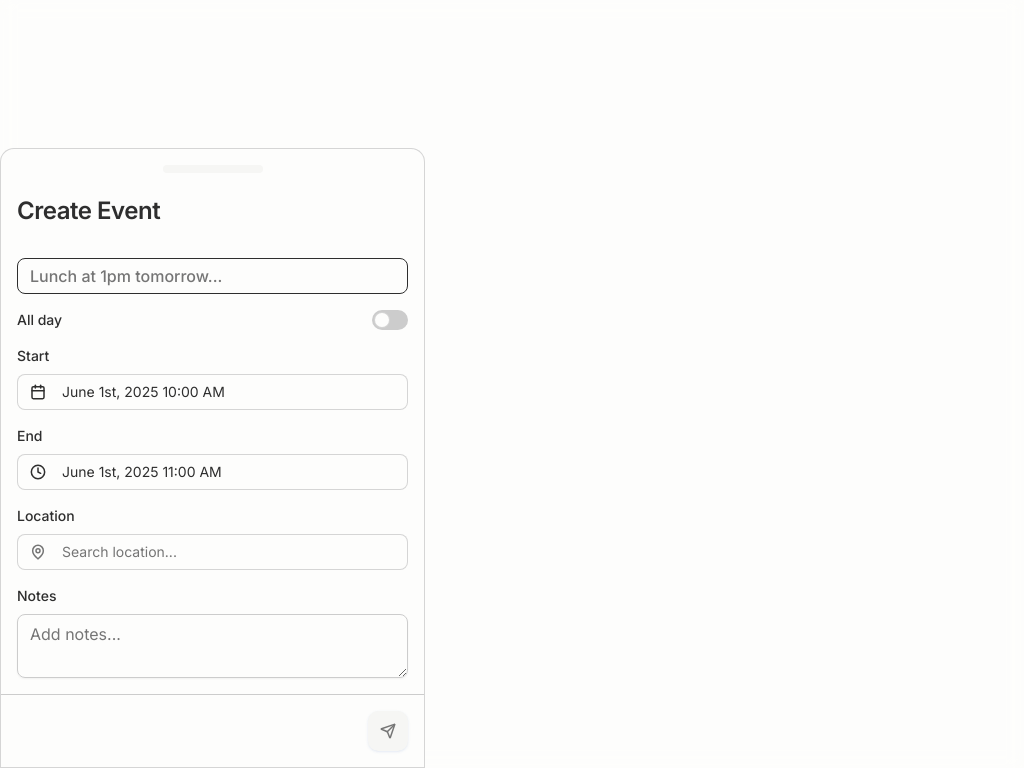
Scenario: CreateEventDialog — button activation (create mode) › [P3] button re-disables when title is cleared
This screenshot has width=1024, height=768.
Type "Meeting" into the field with placeholder "Lunch at 1pm tomorrow..." at (212, 276), box [17, 258, 408, 294]
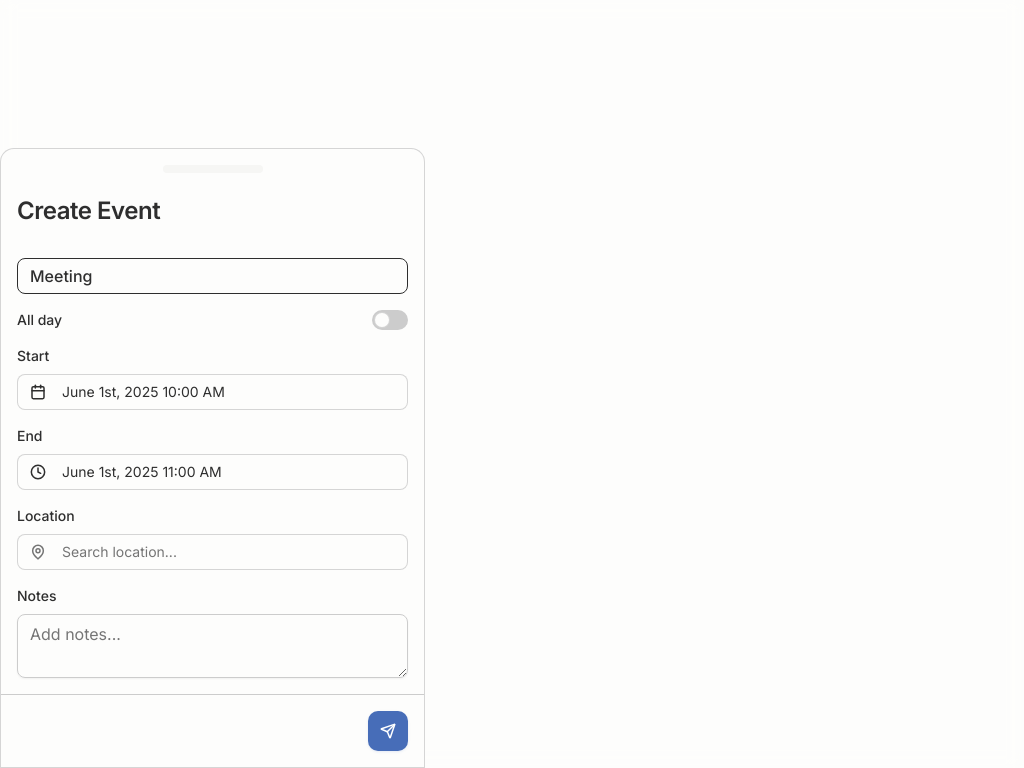
Check: the button named "create event" is enabled, box [368, 711, 408, 751]
Clear the field with placeholder "Lunch at 1pm tomorrow..." at (212, 276), box [17, 258, 408, 294]
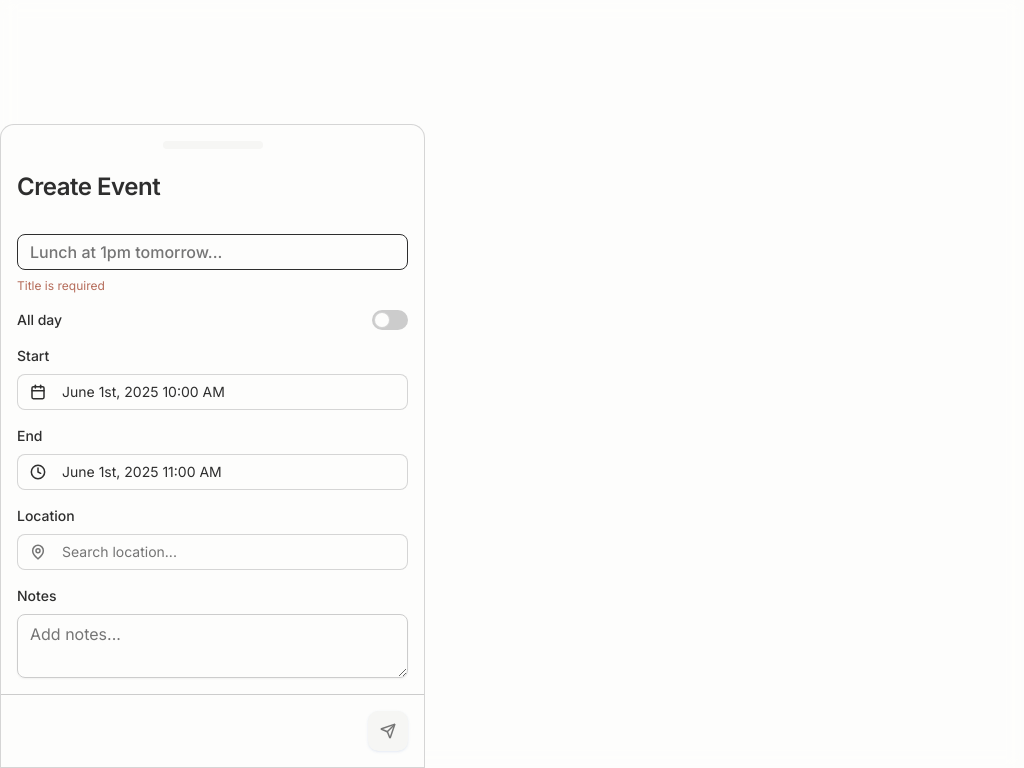
Check: the button named "create event" is disabled, box [368, 711, 408, 751]
